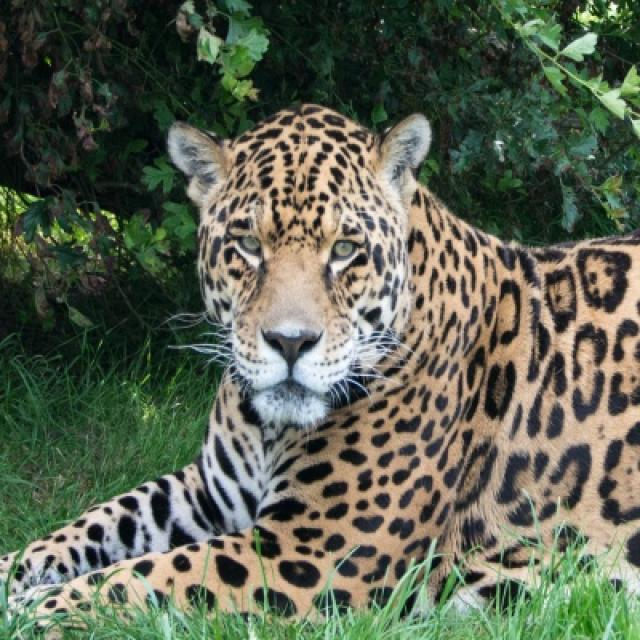Jaguar: (8, 104, 638, 624)
